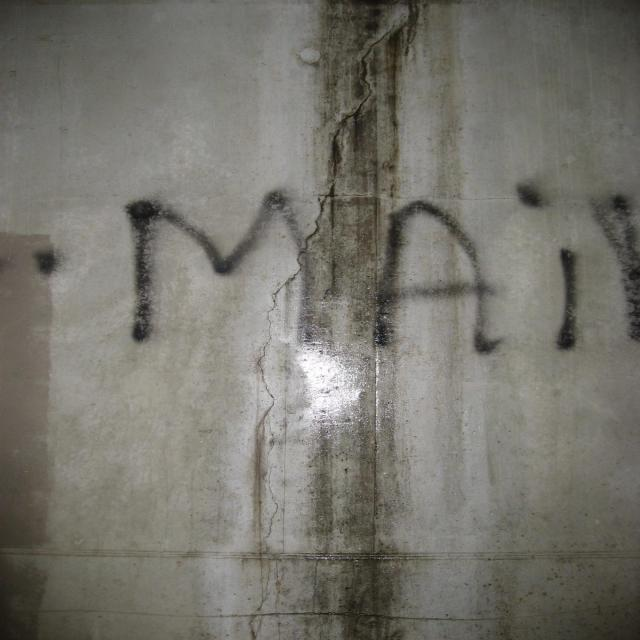vertical crack: (244, 0, 426, 640)
